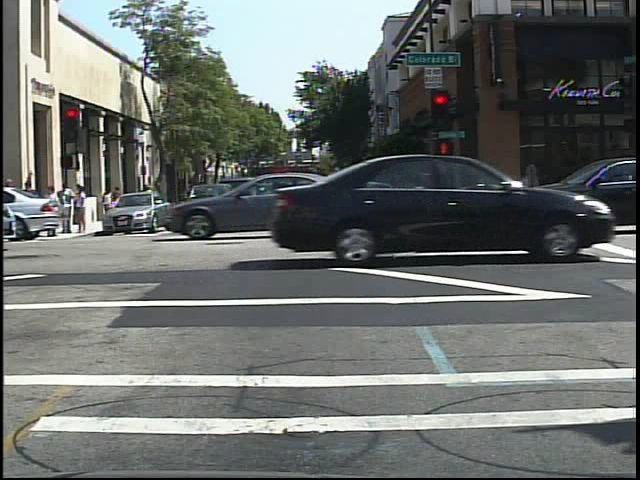person: (102, 186, 117, 224), (142, 181, 156, 214), (138, 181, 153, 211)
